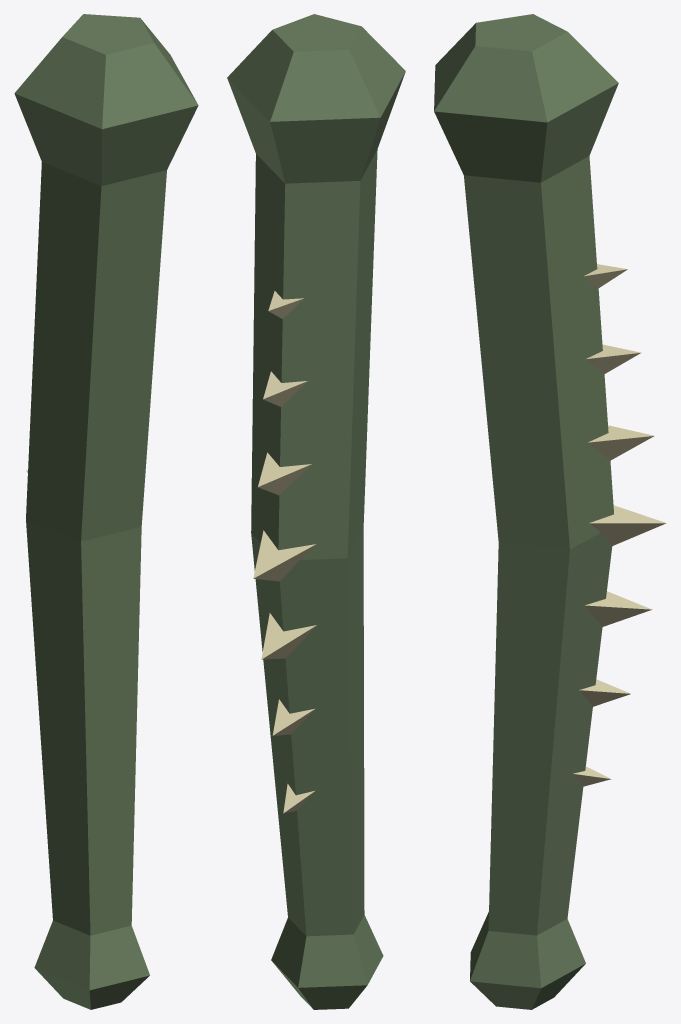
File: LarvaeLegUpperLF.fbx
3 renders of one model, left to right at view 1: azimuth 30°, elevation 25°; view 2: azimuth 150°, elevation 25°; view 3: azimuth 270°, elevation 25°, orthographic.
Parts seen in each view (by area): view 1: Arm14; view 2: Arm14; view 3: Arm14.
Boxes of the visible parts, bbox=[...] form: Arm14: bbox=[14, 14, 198, 1009]; Arm14: bbox=[227, 14, 405, 1009]; Arm14: bbox=[434, 14, 666, 1009].
Bounding box in the file's own units: 1.2 × 7.13 × 1.55.
